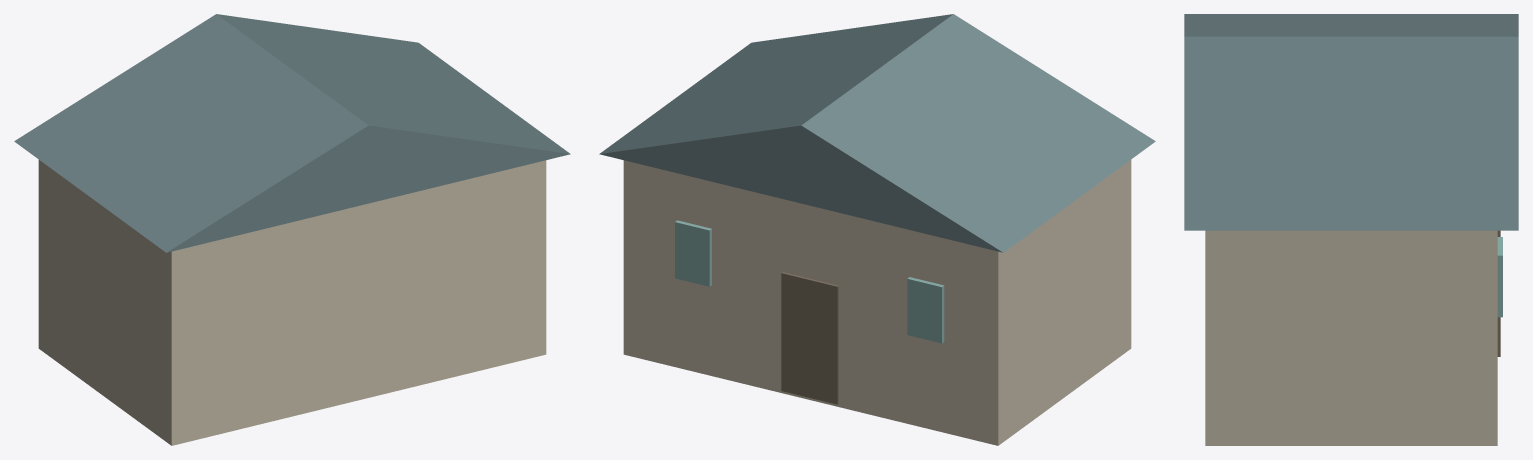
File: city_observatory.glb
The picture shows the model from 3 angles, left to right: view 1: azimuth 30°, elevation 25°; view 2: azimuth 150°, elevation 25°; view 3: azimuth 270°, elevation 25°; orthographic projection. The views are drawn at different scales.
Visible parts, largest first — view 1: observatory; view 2: observatory; view 3: observatory.
Part boxes in pixels (x1=…): observatory: x1=14, y1=14, x2=570, y2=445; observatory: x1=599, y1=14, x2=1155, y2=445; observatory: x1=1184, y1=14, x2=1518, y2=445.
Bounding box in the file's own units: 4.88 × 3.25 × 3.19.
